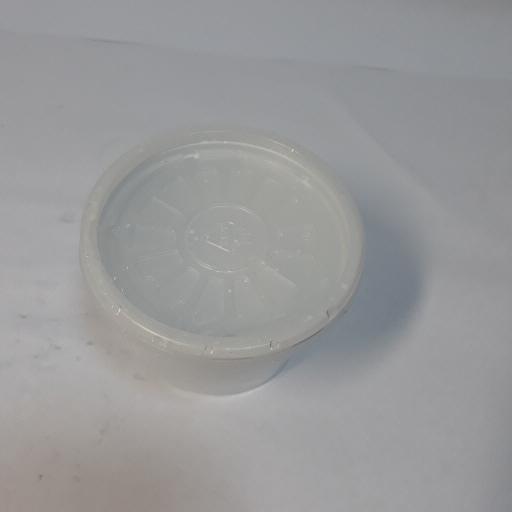Plastic_5: (74, 127, 365, 397)
